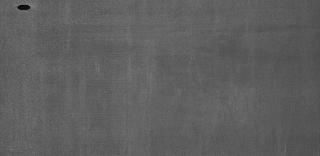punching hole: (17, 3, 33, 12)
